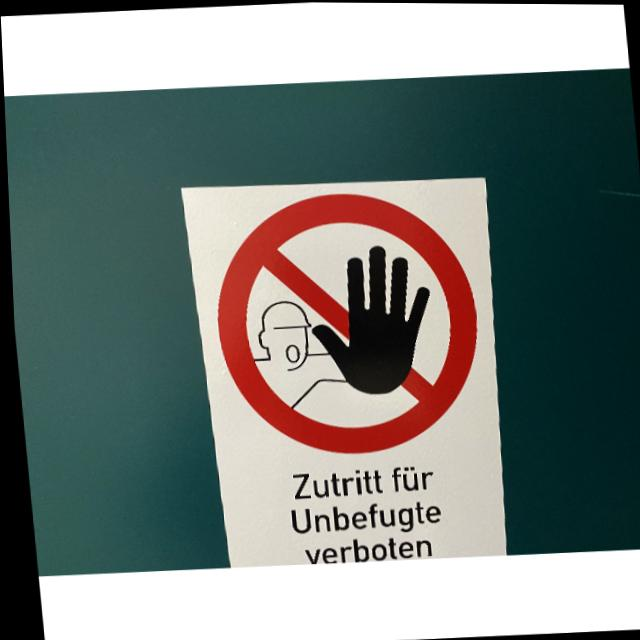No access for unauthorized persons: (203, 186, 485, 461)
